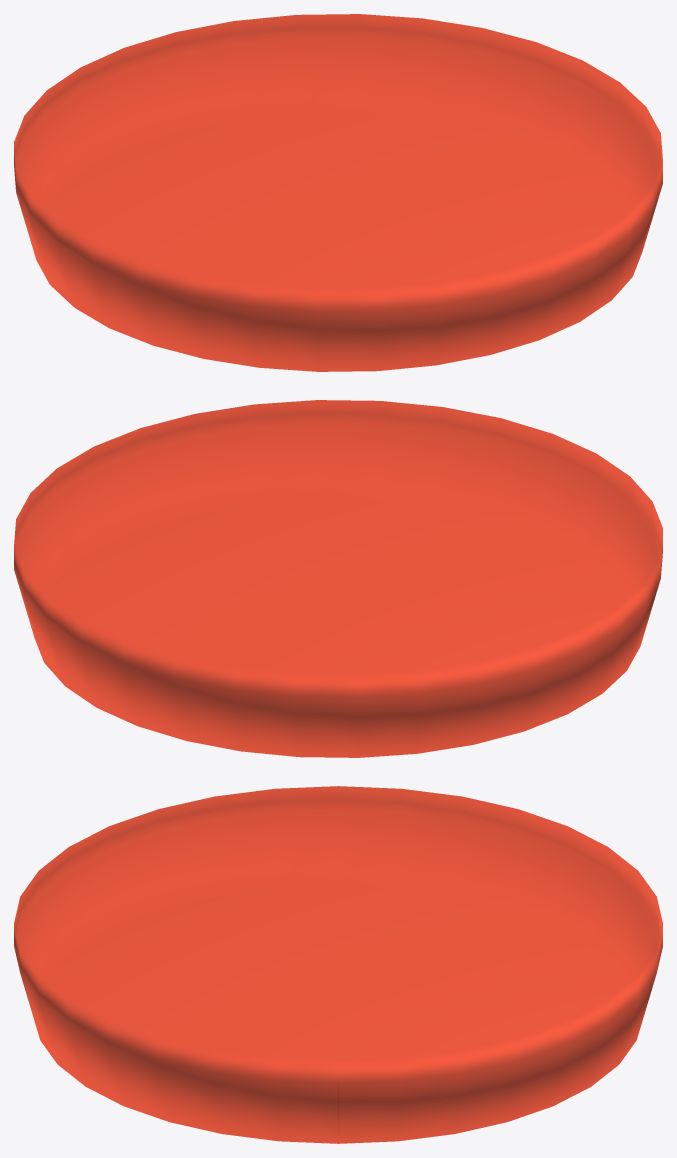
The model's file is soupedWaterStand.fbx.
3 renders of one model, top to bottom at view 1: azimuth 30°, elevation 25°; view 2: azimuth 150°, elevation 25°; view 3: azimuth 270°, elevation 25°, orthographic.
Parts seen in each view (by area): view 1: water; view 2: water; view 3: water.
Boxes of the visible parts, x1,y1,x2,y2 form: water: (14, 14, 662, 371); water: (14, 400, 662, 757); water: (14, 786, 662, 1143).
Size of the model in its own units: 183 by 28.69 by 183.
